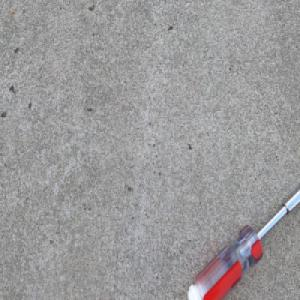Screwdriver: (185, 184, 300, 300)
